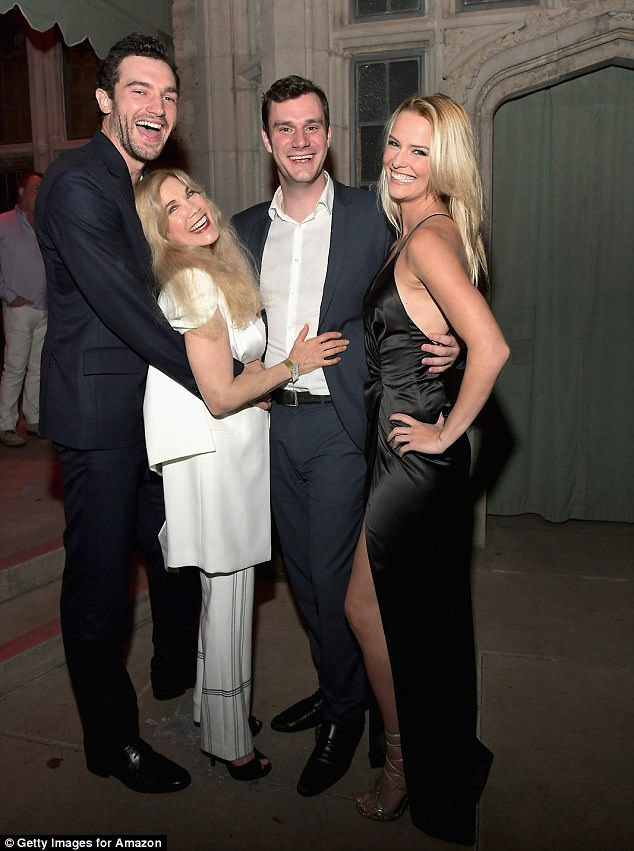bad: (262, 105, 337, 179), (113, 72, 187, 146), (377, 135, 439, 198), (156, 184, 218, 246)
